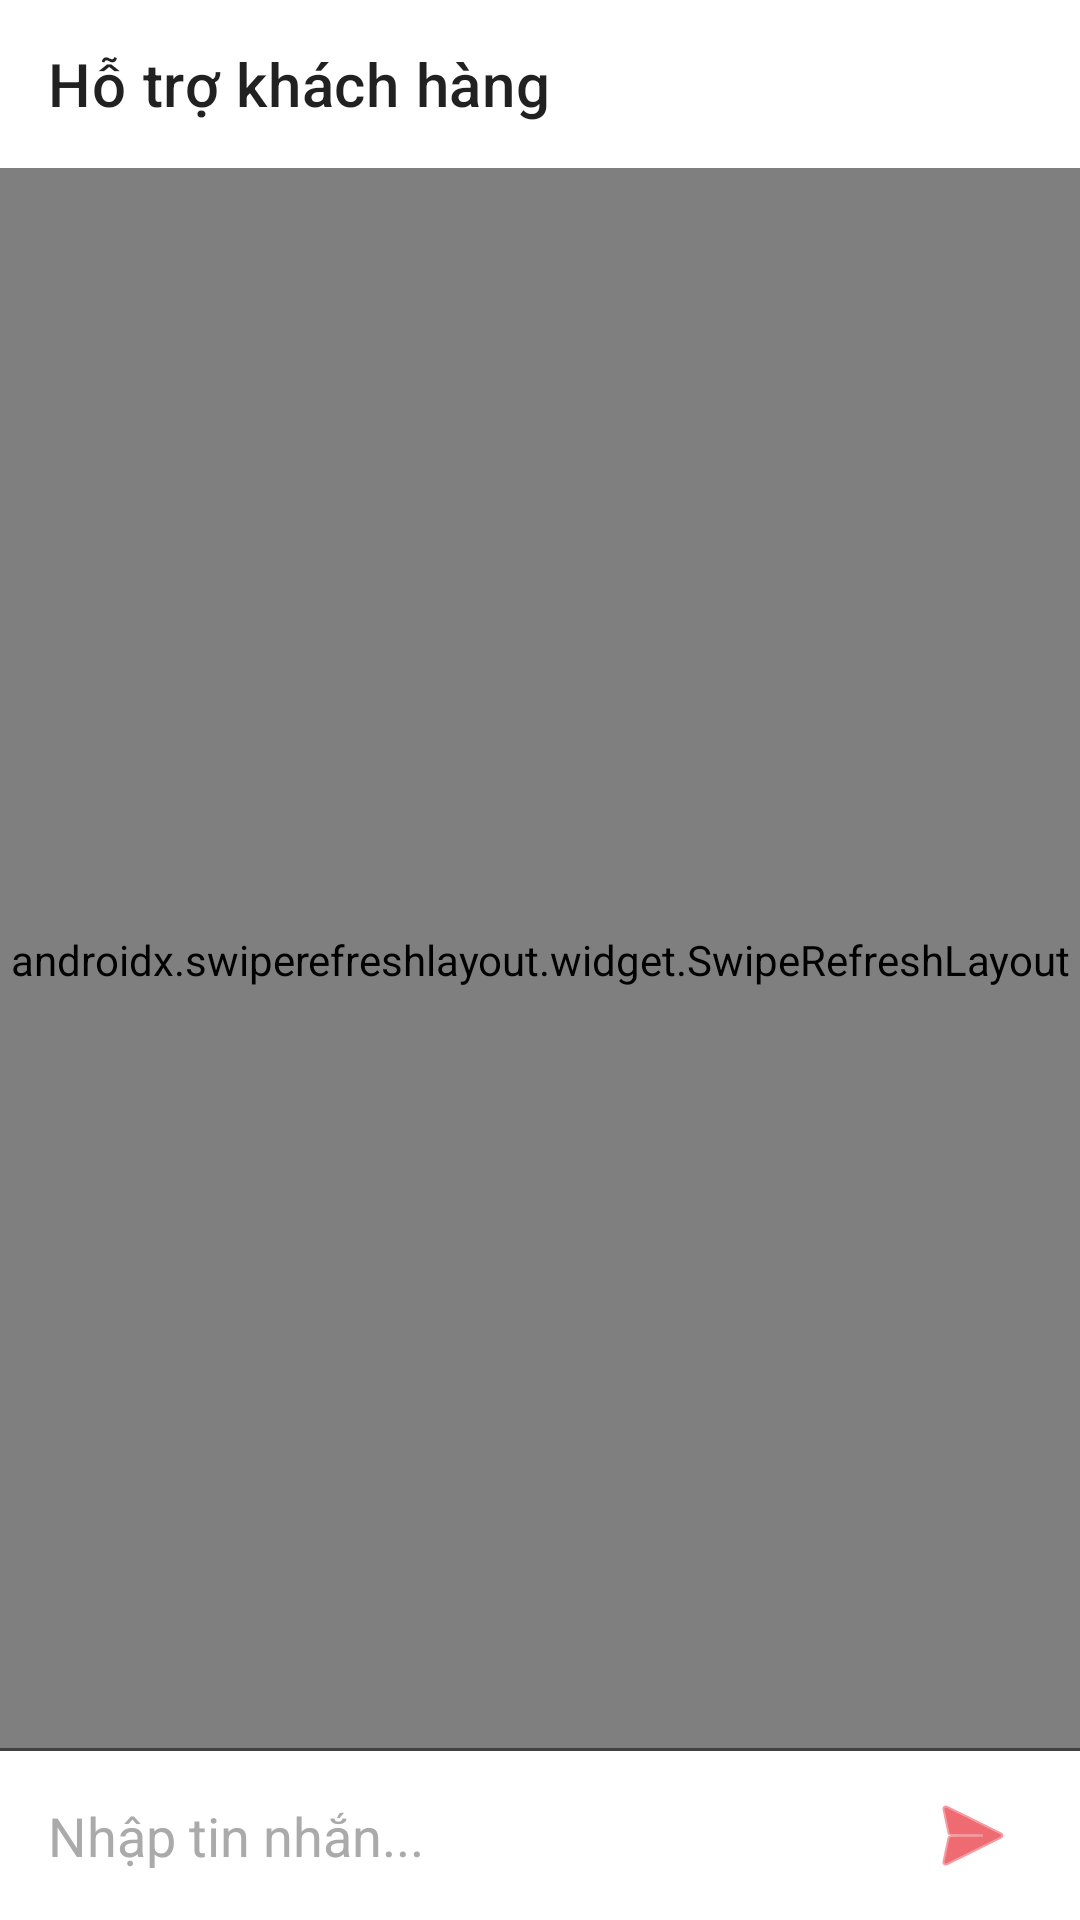

Screen size 1080*1920. Icon name, then its box in pixels as (x1, y1, x2, y2):
send: (942, 1805, 1004, 1866)
